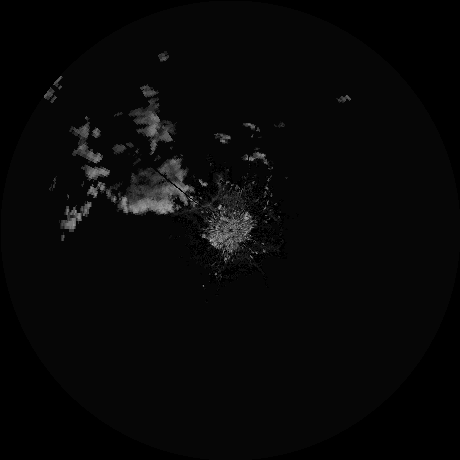frontgust: (184, 180, 221, 210)
